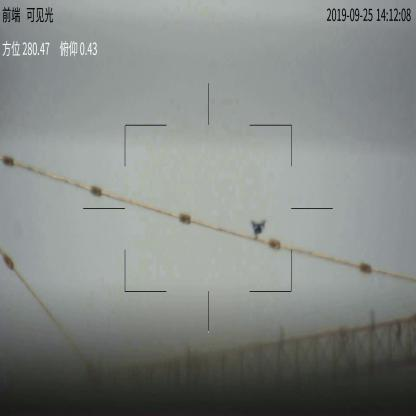uav: (249, 219, 268, 238)
